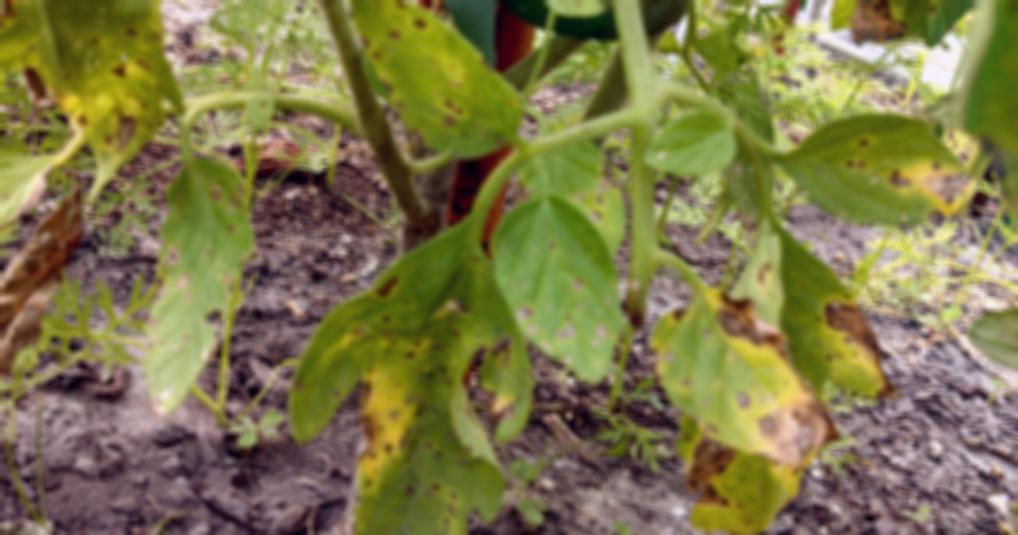Tomato Septoria leaf spot: (283, 216, 555, 535), (111, 111, 272, 454), (741, 214, 929, 425), (639, 239, 811, 469), (336, 0, 531, 172), (484, 178, 636, 392), (787, 99, 984, 229)
